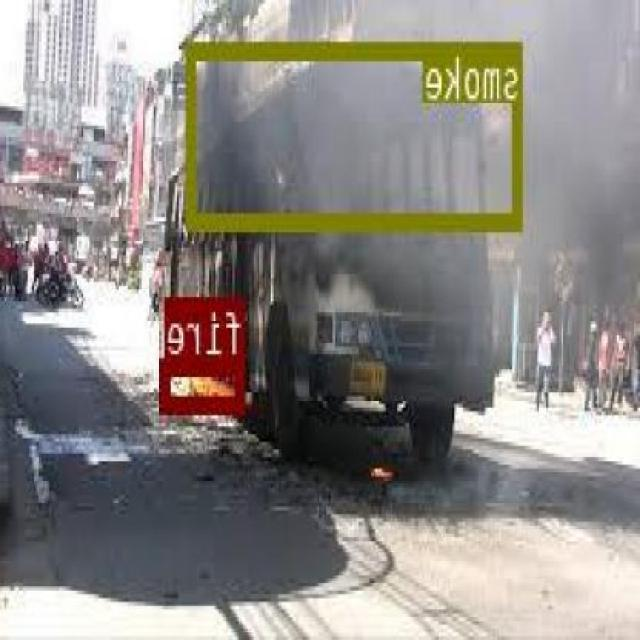Fire: (162, 356, 245, 410)
Smoke: (189, 39, 523, 228)
